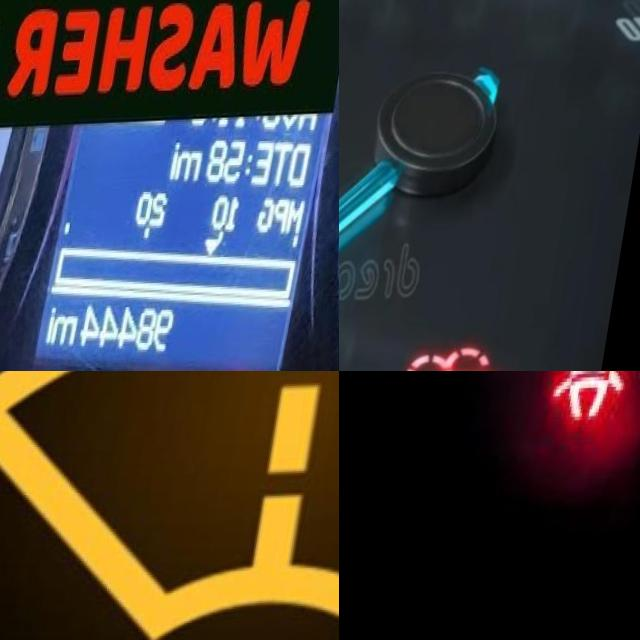Seat Belt: (567, 371, 640, 426)
Washer Fluid: (0, 371, 339, 640)
